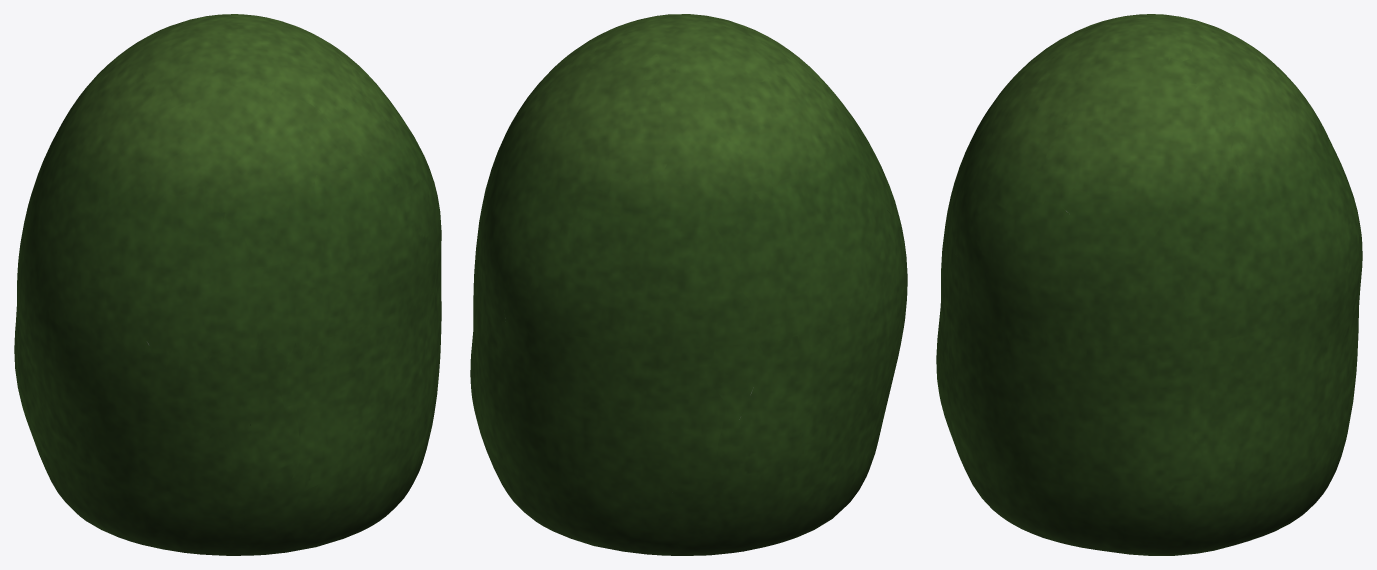
The model's file is bui_cay_tron.glb.
The picture shows the model from 3 angles, left to right: view 1: azimuth 30°, elevation 25°; view 2: azimuth 150°, elevation 25°; view 3: azimuth 270°, elevation 25°; orthographic projection.
Visible parts, largest first — view 1: bui_cay_tron; view 2: bui_cay_tron; view 3: bui_cay_tron.
Part boxes in pixels (x1,y1,x2,y2): bui_cay_tron: (14,14,441,555); bui_cay_tron: (470,14,907,555); bui_cay_tron: (936,14,1362,555).
Bounding box in the file's own units: 1.46 × 1.71 × 1.43.
1 material, 1 textured.
